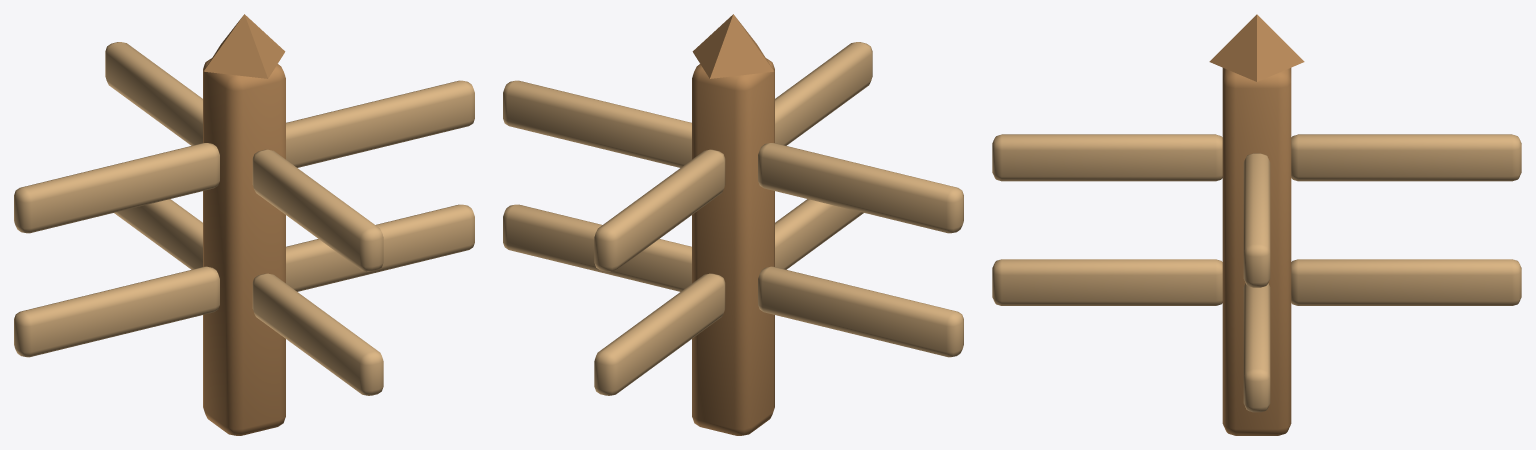
The model's file is fence-wood.glb.
3 views of the same model, side by side, from view 1: azimuth 30°, elevation 25°; view 2: azimuth 150°, elevation 25°; view 3: azimuth 270°, elevation 25° (orthographic).
Parts seen in each view (by area): view 1: core, link_w, link_e, link_s, link_n; view 2: core, link_w, link_e, link_n, link_s; view 3: core, link_n, link_s, link_e.
Boxes of the visible parts, left/top/right/bottom form: core: left=203, top=14, right=285, bottom=435; link_w: left=14, top=143, right=219, bottom=357; link_e: left=286, top=80, right=474, bottom=291; link_s: left=252, top=149, right=383, bottom=395; link_n: left=105, top=42, right=202, bottom=269; core: left=692, top=14, right=774, bottom=435; link_w: left=758, top=143, right=963, bottom=357; link_e: left=503, top=80, right=691, bottom=291; link_n: left=594, top=149, right=725, bottom=395; link_s: left=775, top=42, right=872, bottom=269; core: left=1209, top=14, right=1304, bottom=435; link_n: left=1291, top=134, right=1521, bottom=305; link_s: left=992, top=134, right=1222, bottom=305; link_e: left=1243, top=153, right=1270, bottom=412.
Size of the model in its own units: 1 by 0.86 by 1.
